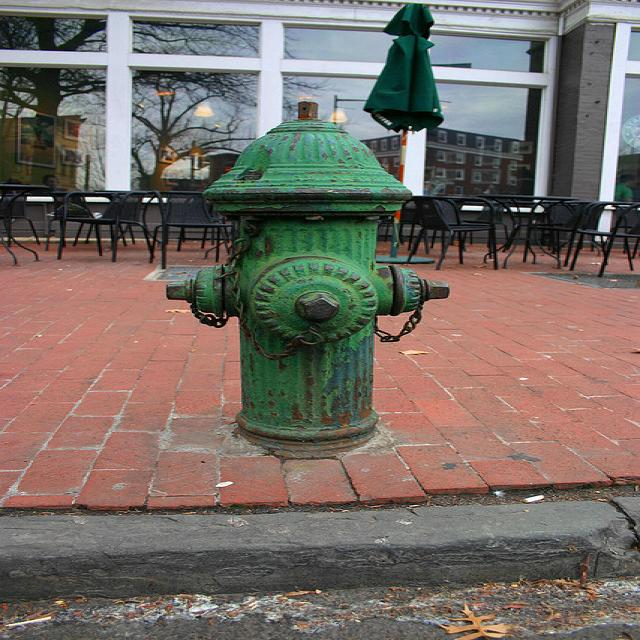chair: (406, 194, 502, 273), (147, 192, 233, 268), (570, 203, 640, 277), (58, 191, 120, 262), (521, 204, 575, 270), (120, 191, 158, 247), (1, 194, 42, 245), (617, 232, 640, 270), (399, 200, 416, 249), (179, 229, 213, 252)
dining table: (477, 192, 581, 271), (95, 189, 198, 192), (0, 184, 51, 190)
